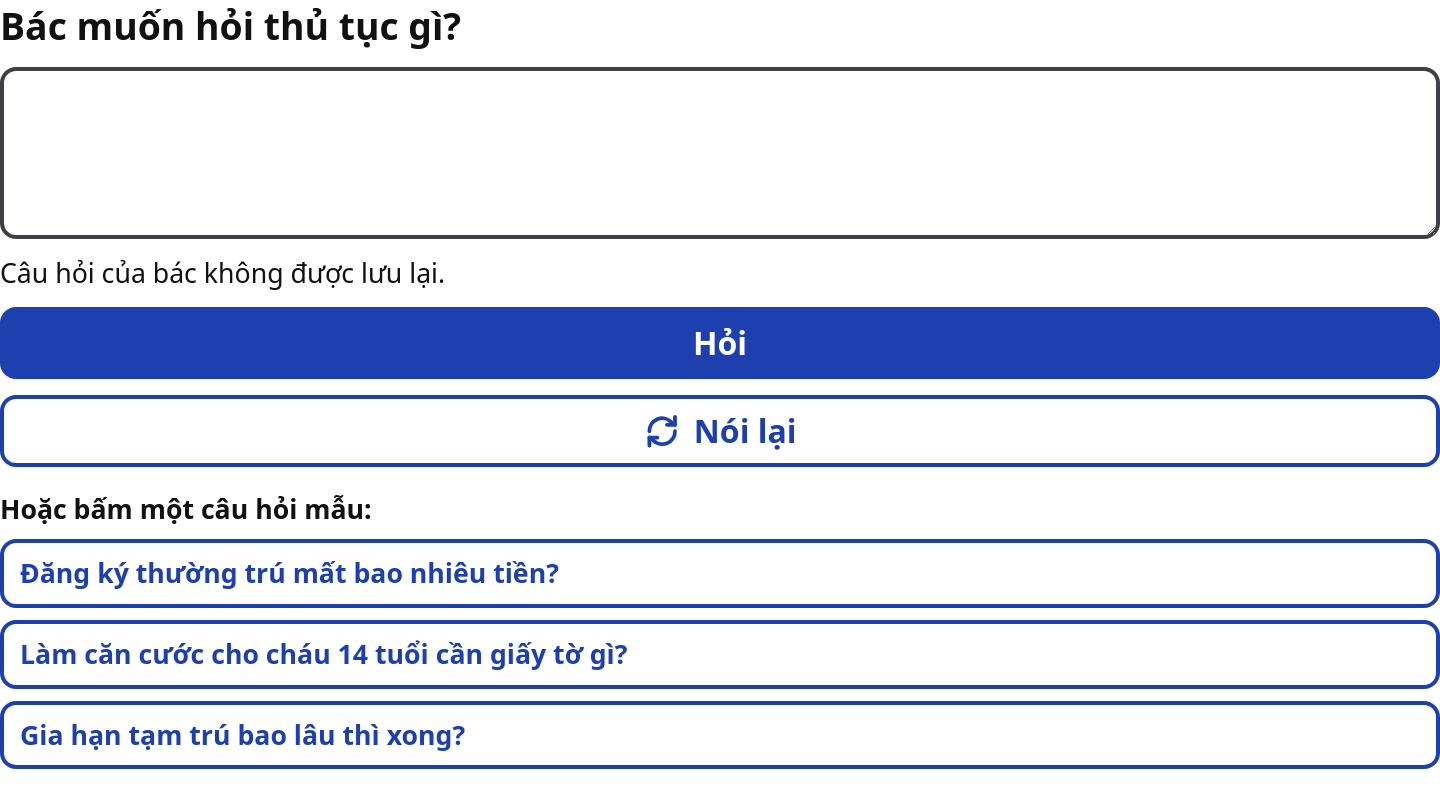
Test: AnswerCard — Nguồn, giấy tờ, escalate, từ chối › không có trích dẫn thì không có nút Nguồn
The width and height of the screenshot is (1440, 810).
Type "Hỏi thử" into the text box with test id "ask-input".
click(720, 153); type("Hỏi thử")  # box [0,67,1439,239]
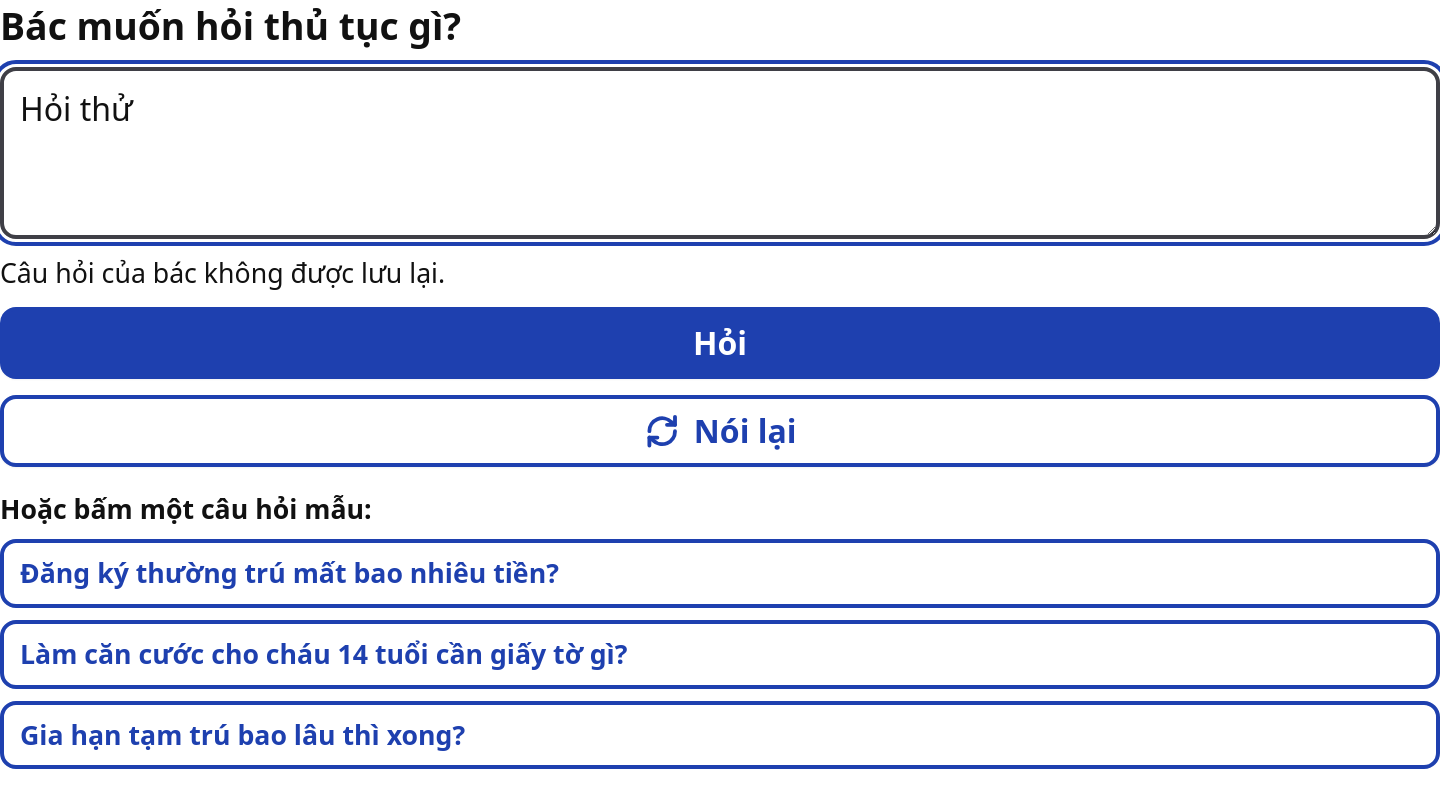
Click the button with test id "ask-submit".
click(720, 343)  # box [0,307,1439,379]
(page scrolled)
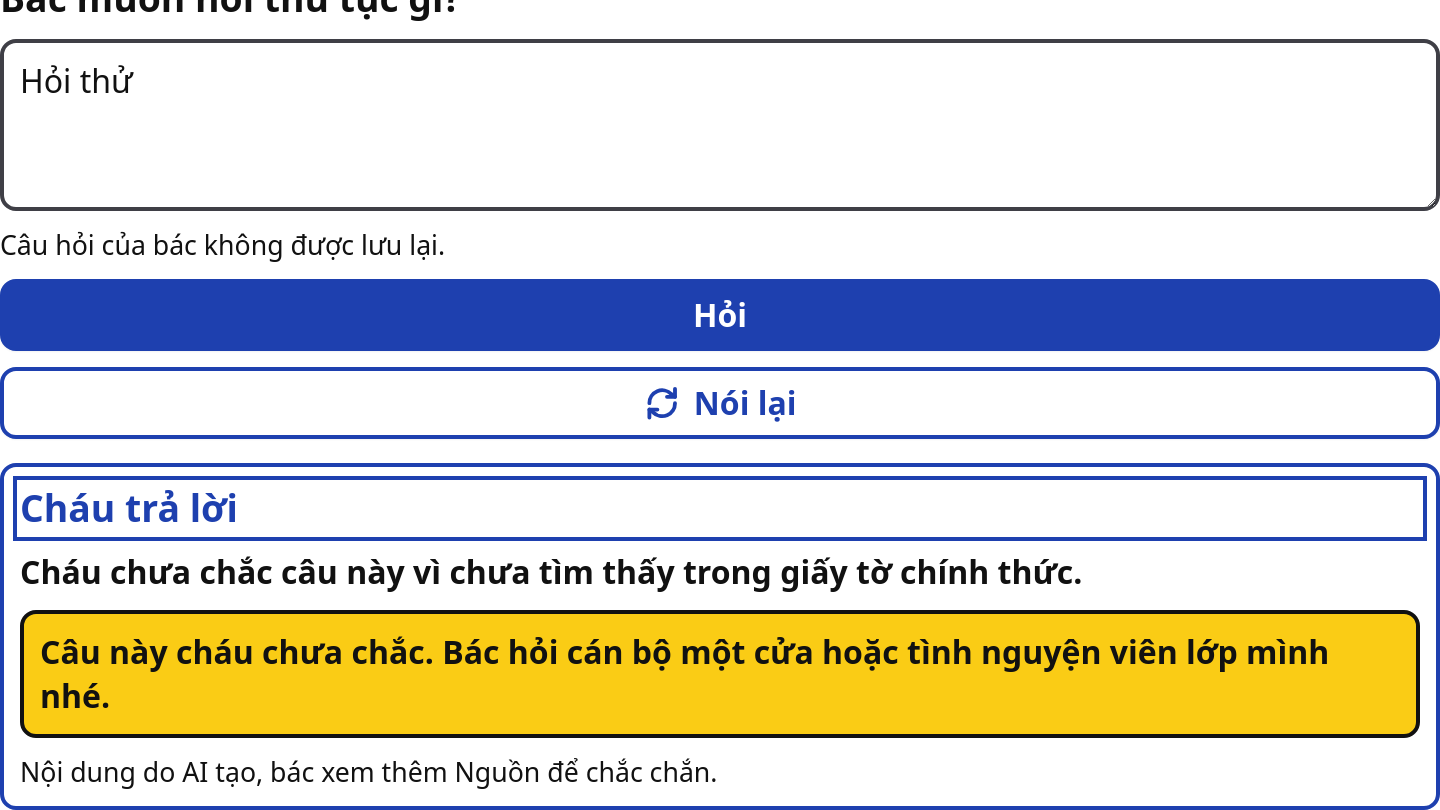
Result: the element with test id "answer" is shown at [0,463,1439,809]
